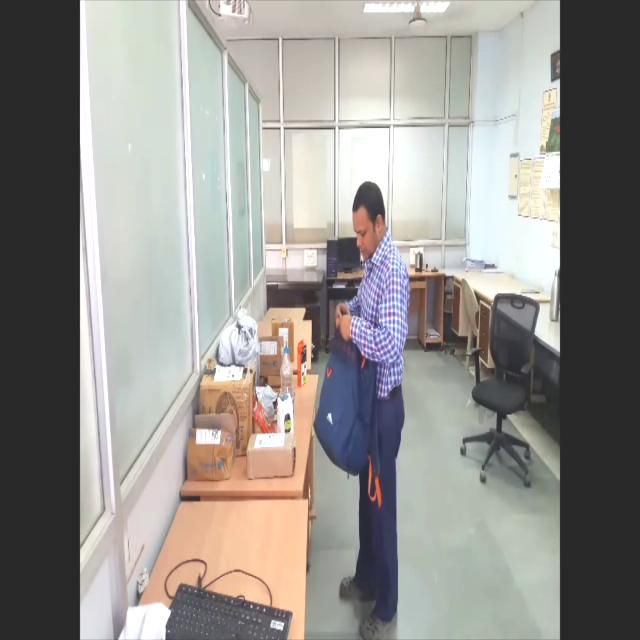shoplifting: (309, 181, 417, 640)
